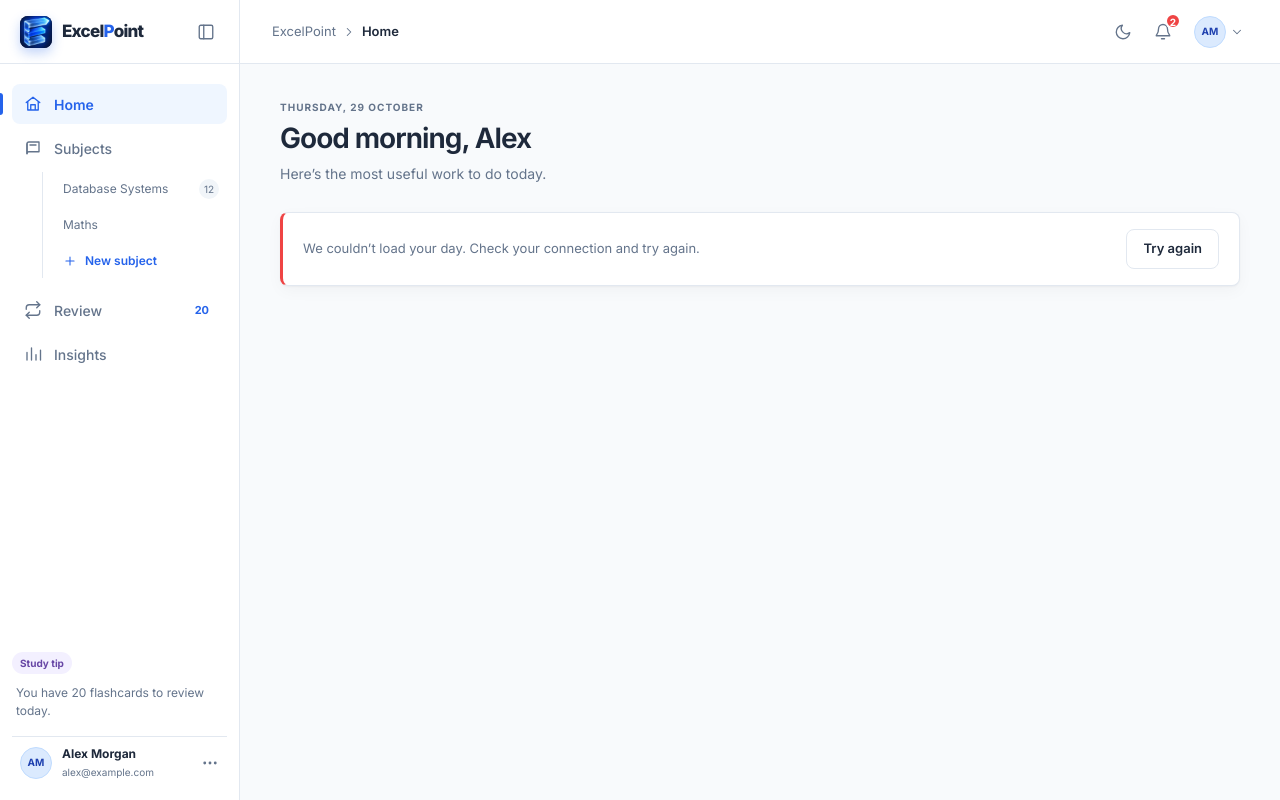
it: Today › offers a retry when the page fails to load
What coordinates should you click on to do the following:
click the button "Try again"
I would click on:
 (1173, 249)
Its box is x1=1126 y1=229 x2=1219 y2=269.
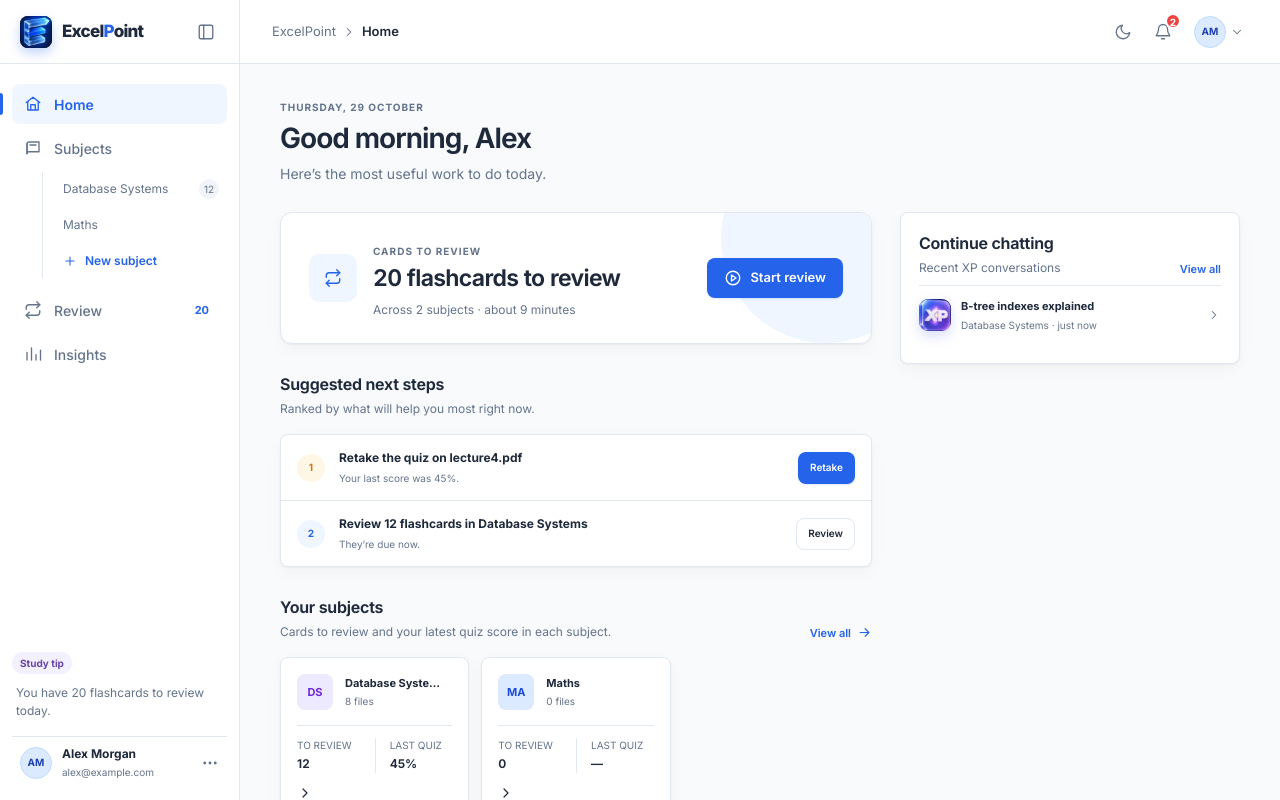
Expected: the heading "20 flashcards to review" is shown, x1=373 y1=261 x2=620 y2=296
